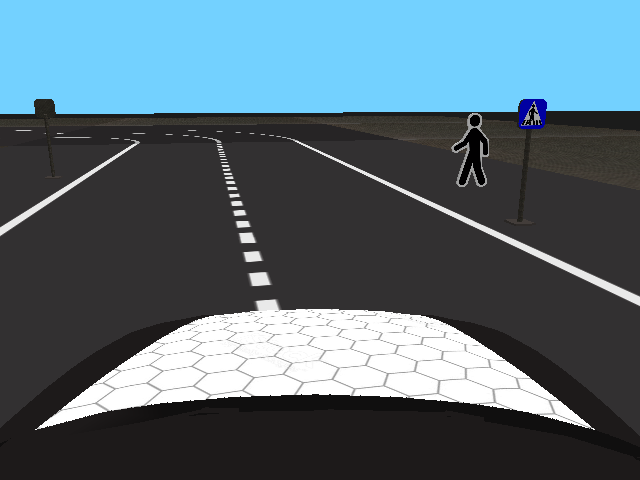pedestrian: (452, 112, 490, 188)
